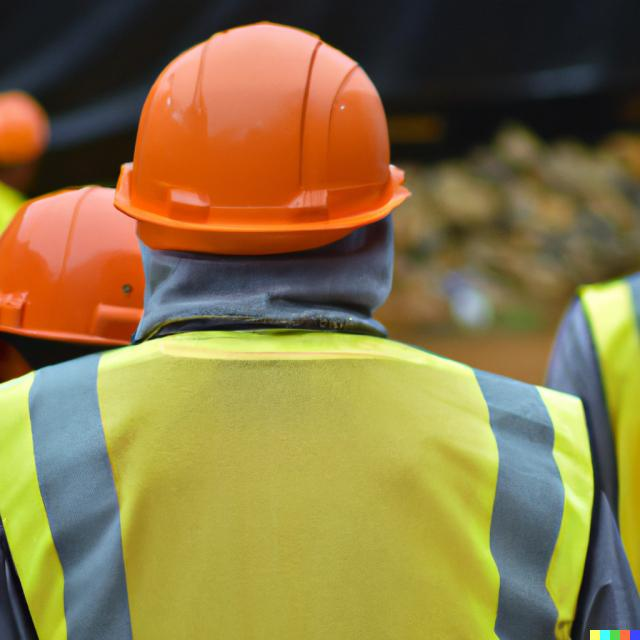Reflective-Jacket: (1, 329, 601, 633), (566, 253, 640, 634)
Safety-Helmet: (111, 22, 417, 250), (1, 181, 155, 344)
